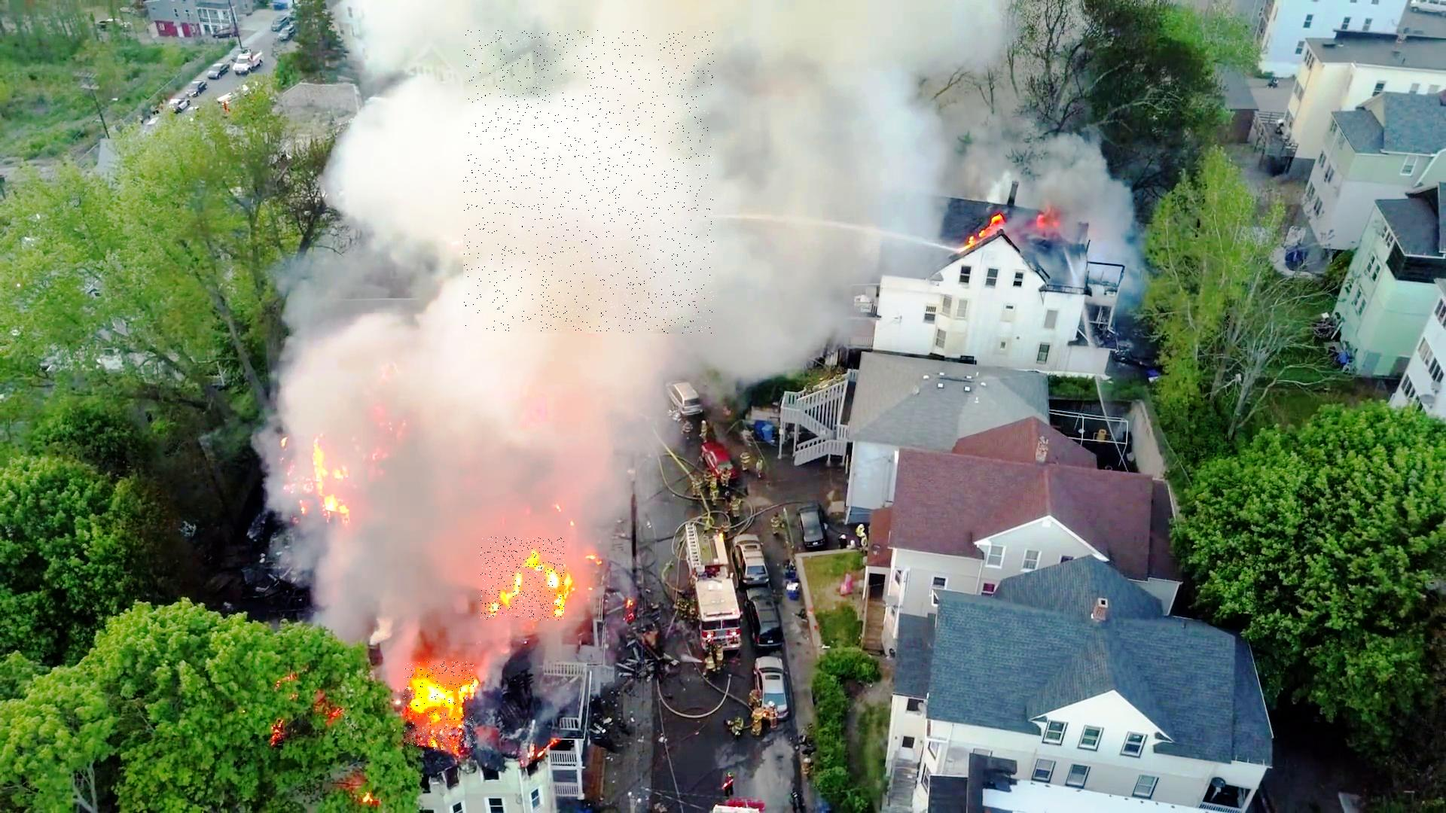fire: (481, 537, 564, 620), (404, 662, 474, 750)
smoke: (464, 30, 715, 333)
